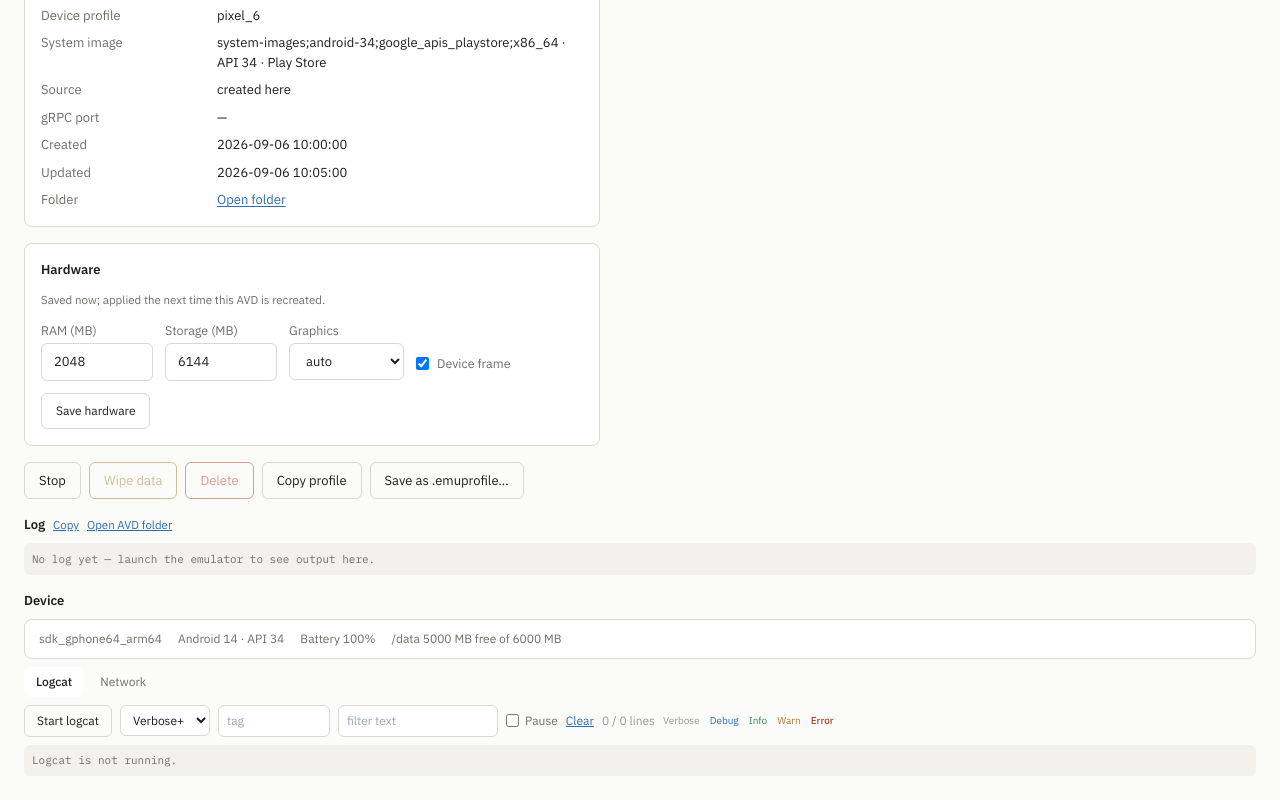
Test: EmulatorDetail › streams logcat and filters it by level and text
(page scrolled)
Expected: the element with test id "device-facts" shows "sdk_gphone64_arm64", x1=39 y1=631 x2=162 y2=646
Click the button with test id "logcat-toggle". click: (68, 721)
box: x1=24 y1=705 x2=112 y2=737
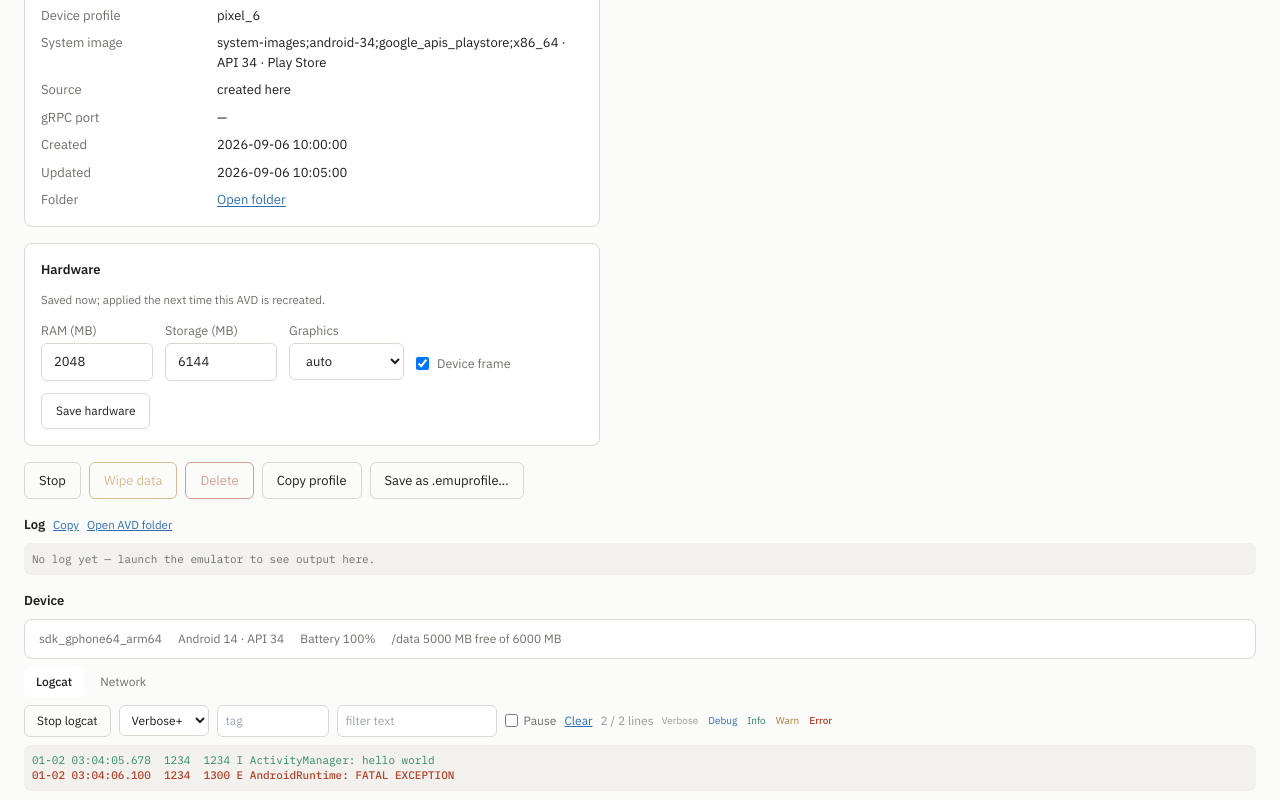
Expected: the element with test id "logcat-console" does not show "not mine", x1=24 y1=745 x2=1256 y2=791
Expected: the element with test id "logcat-console" shows "hello world", x1=32 y1=753 x2=435 y2=767
Note: Raise the minimum level to E — the Info line drops out.
Select "Error+" in the dropdown with test id "logcat-level". click: (164, 721)
box: x1=119 y1=705 x2=209 y2=736
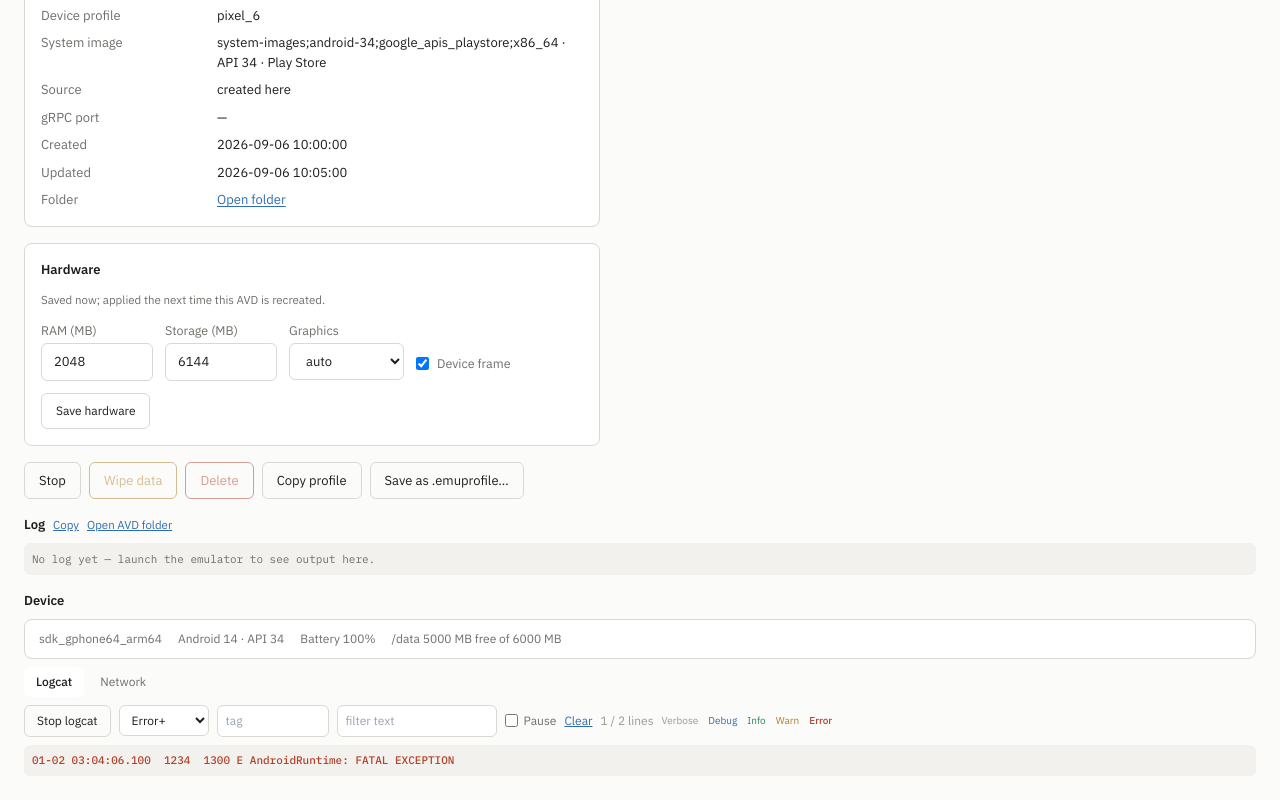
Expected: the element with test id "logcat-console" shows "FATAL EXCEPTION", x1=32 y1=753 x2=454 y2=767
Expected: the element with test id "logcat-console" no longer shows "hello world", x1=24 y1=745 x2=1256 y2=776
